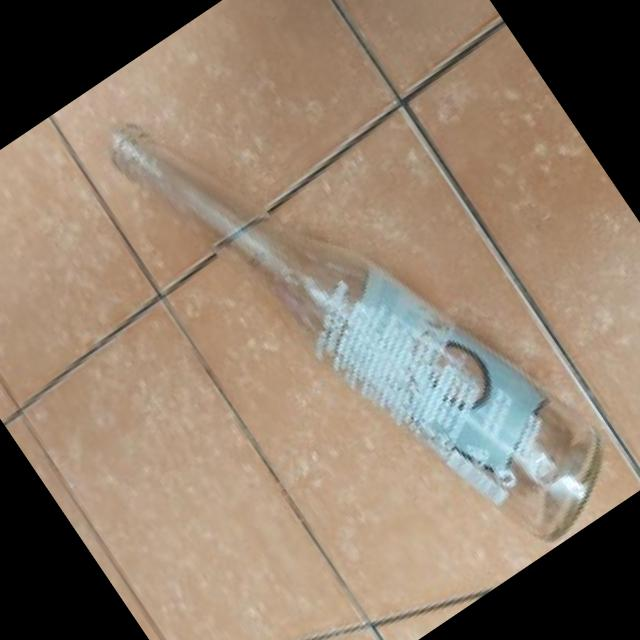BotolKaca: (95, 0, 637, 630)
